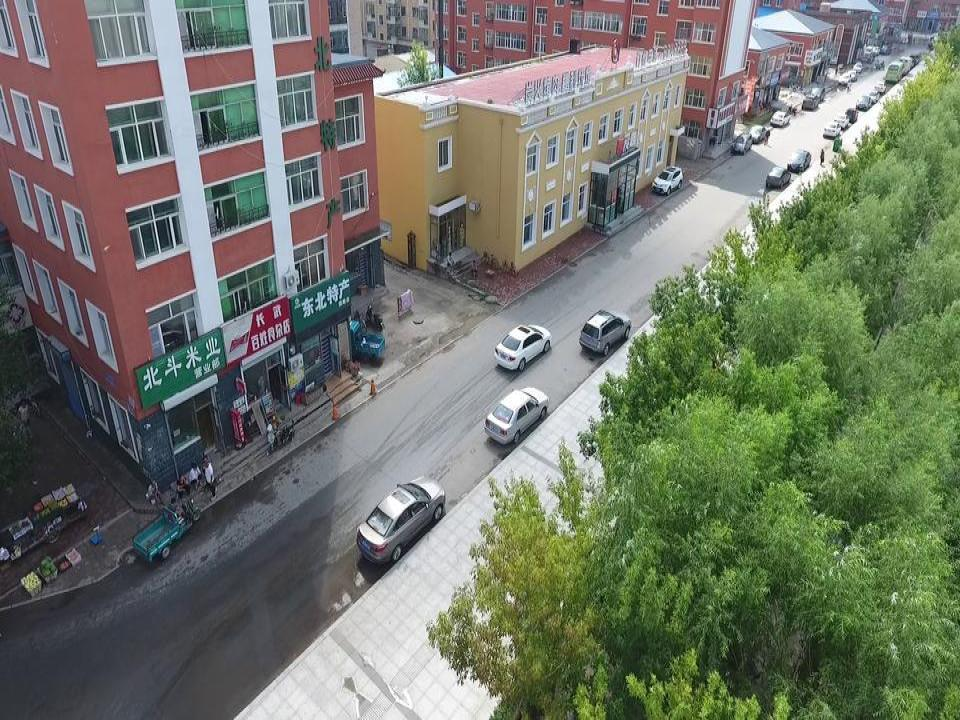bus: (885, 61, 904, 83)
car: (356, 475, 445, 564), (483, 387, 550, 445), (494, 324, 552, 371), (579, 309, 631, 356), (651, 165, 683, 195), (787, 148, 812, 173), (766, 165, 791, 188), (731, 132, 752, 155), (748, 125, 768, 144), (770, 109, 790, 127), (822, 121, 842, 139), (801, 92, 819, 111), (855, 95, 872, 112), (811, 85, 825, 103), (834, 114, 849, 130), (846, 106, 858, 122), (838, 72, 852, 85), (874, 82, 887, 94), (847, 70, 858, 82), (852, 62, 863, 74), (870, 90, 880, 102)
